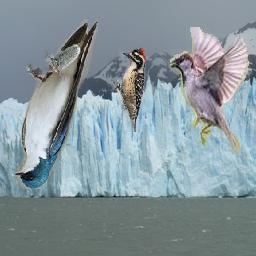Sparrow: (170, 27, 251, 153)
Swallow: (14, 19, 98, 189)
Woodpecker: (116, 48, 147, 133)
